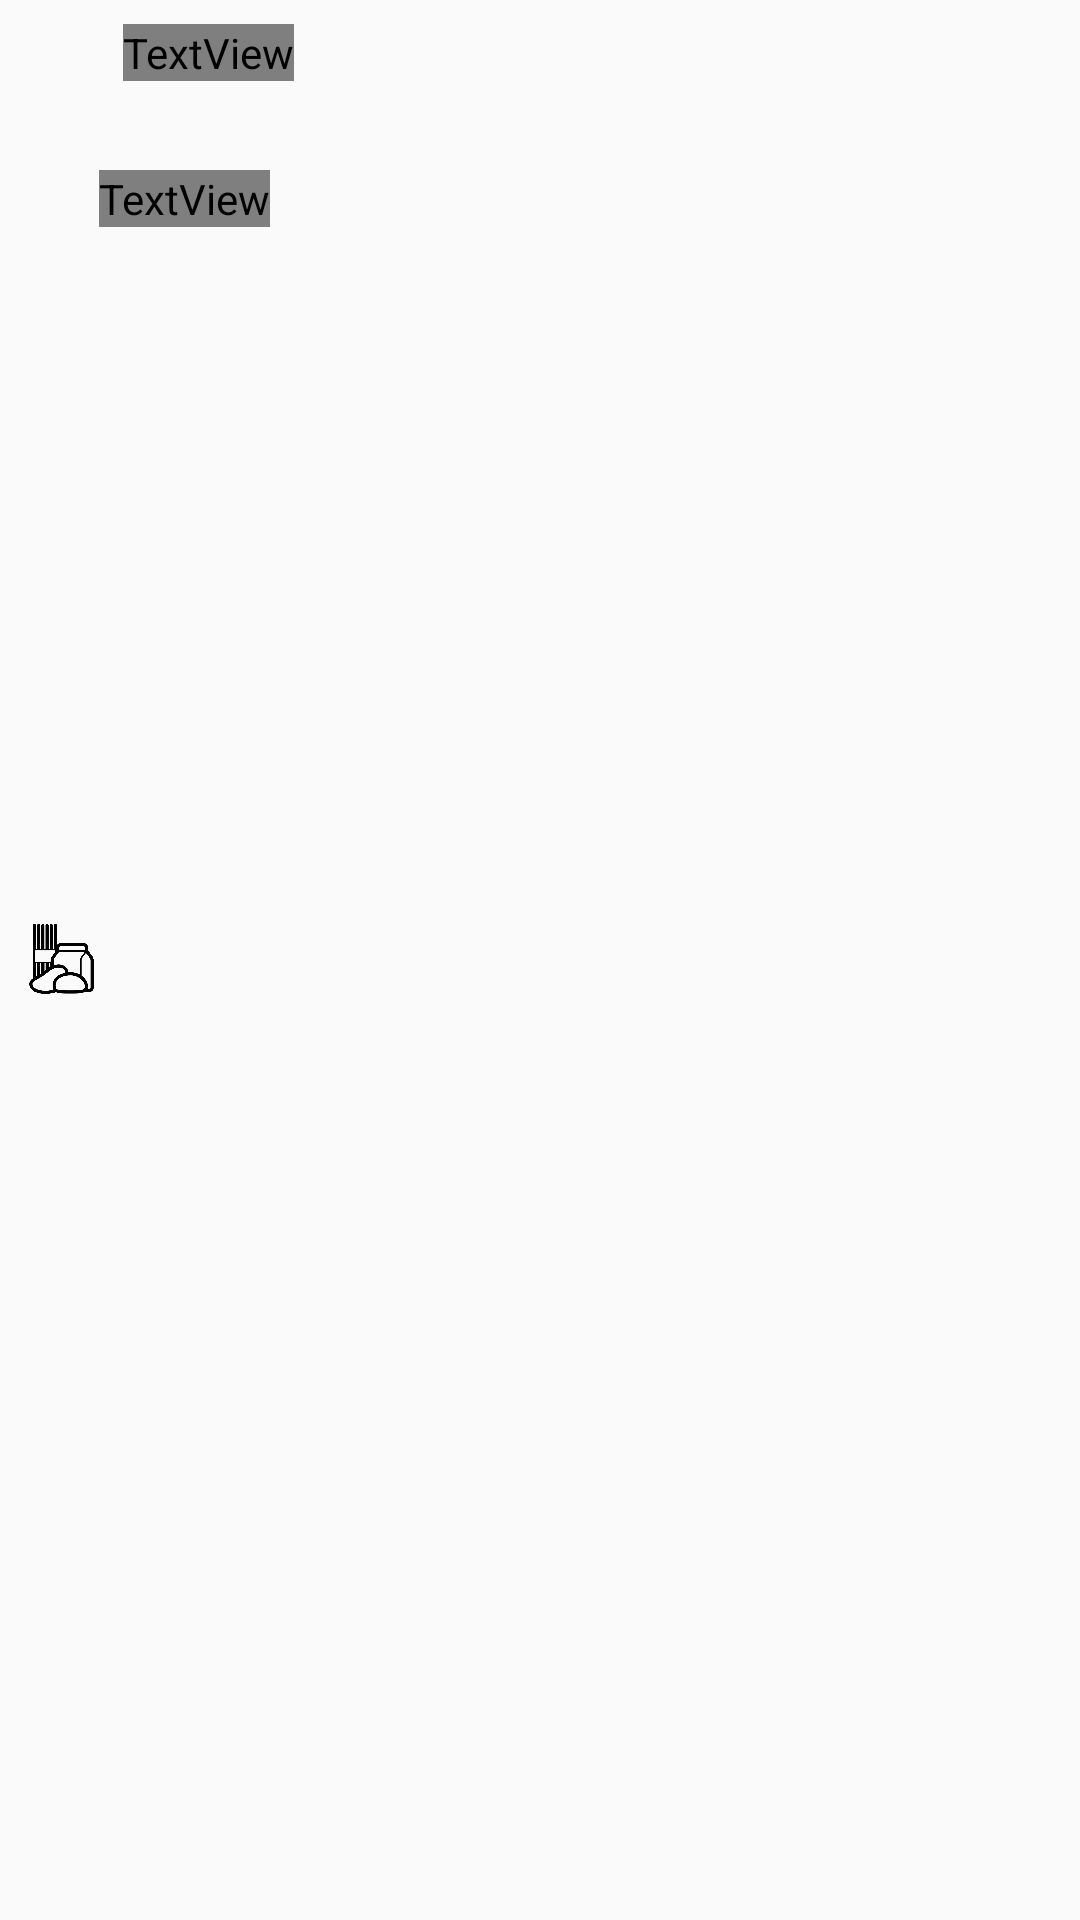

Screen size 1080*1920. Icon name, then its box in pixels as bbox=[x1, y1, x2, y2]:
ingredients: bbox=[29, 924, 94, 994]
